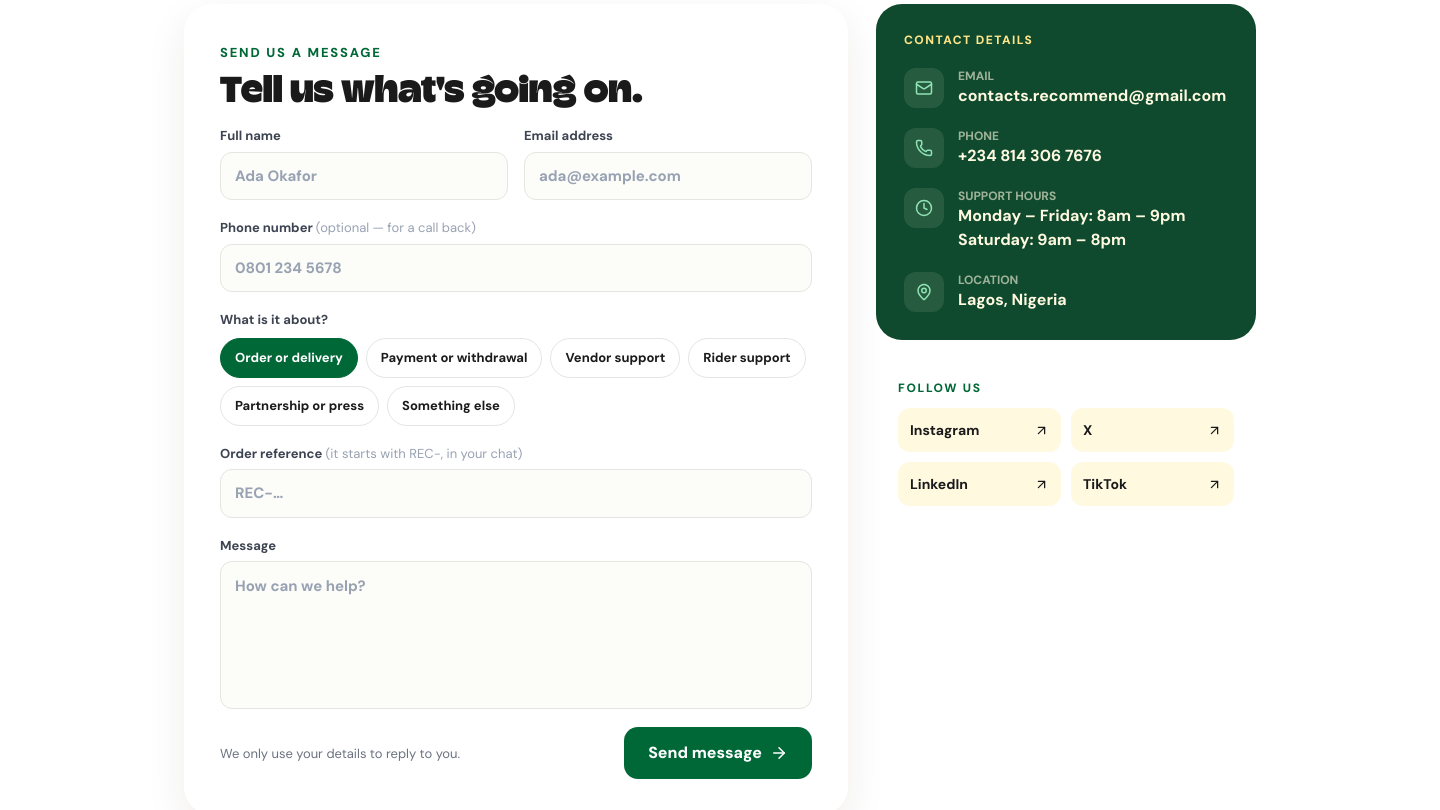
Test: Contact page › asks for an order reference only when the message is about an order
(page scrolled)
Check: the field labelled "Order reference (it starts with REC-, in your chat)" is shown, box [220,469,812,518]
Click the button "Partnership or press" at [300, 406], box [220,386,379,426]
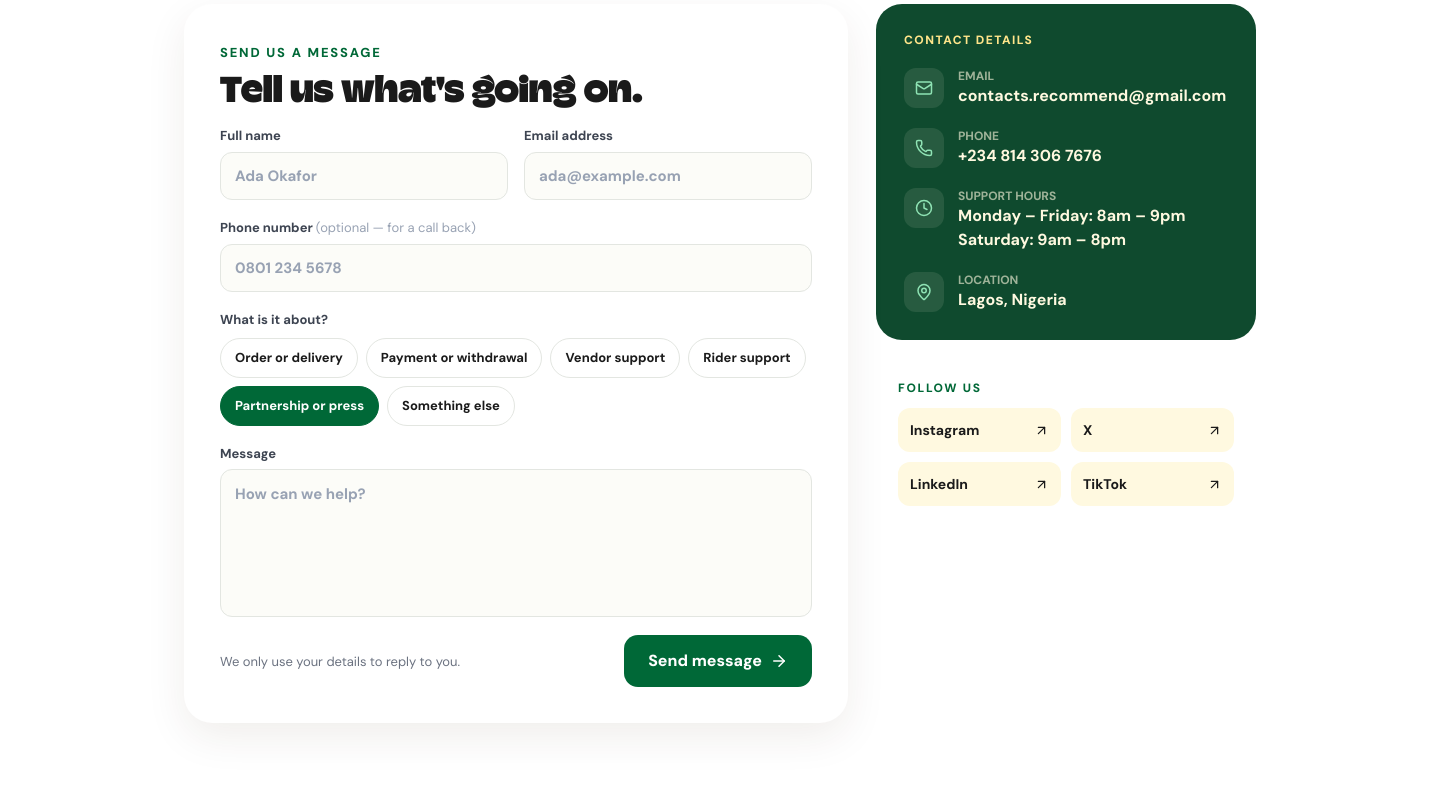
Check: the field labelled "Order reference" is gone
